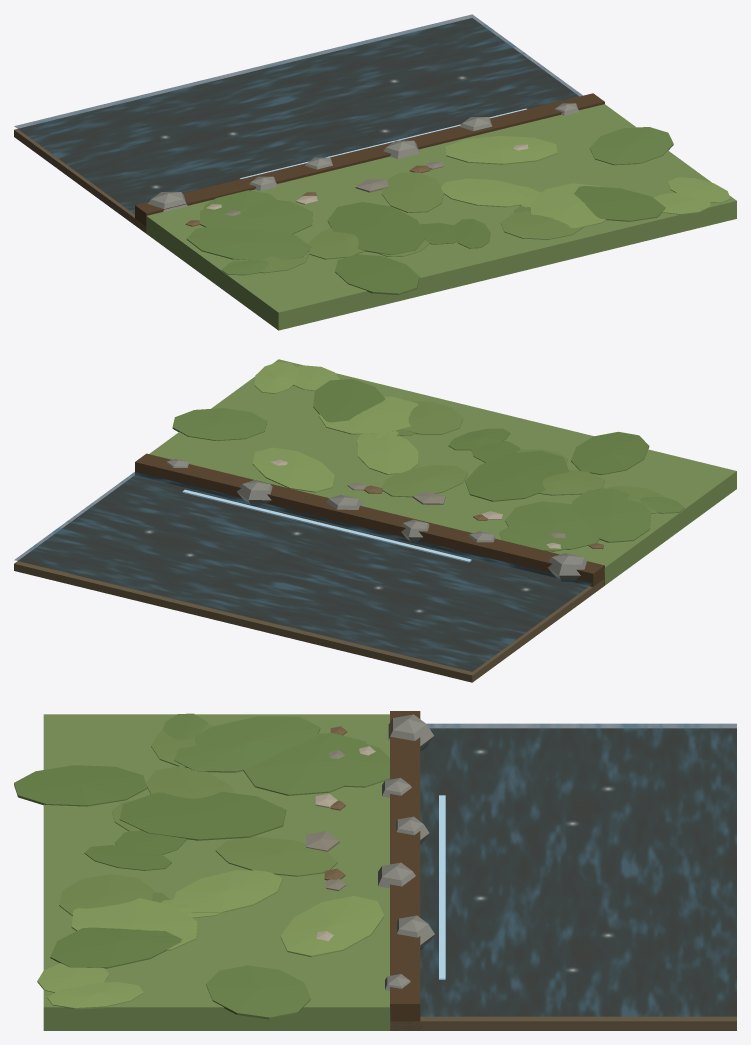
Rendered from br_shore.glb.
The picture shows the model from 3 angles, top to bottom: view 1: azimuth 30°, elevation 25°; view 2: azimuth 150°, elevation 25°; view 3: azimuth 270°, elevation 25°; orthographic projection. The views are drawn at different scales.
Visible parts, largest first — view 1: br_shore; view 2: br_shore; view 3: br_shore.
Boxes of the visible parts, left/top/right/bottom form: br_shore: left=14, top=14, right=736, bottom=330; br_shore: left=14, top=359, right=736, bottom=682; br_shore: left=14, top=711, right=736, bottom=1030.
Bounding box in the file's own units: 8.31 × 0.472 × 8.34.
13 materials, 1 textured.
